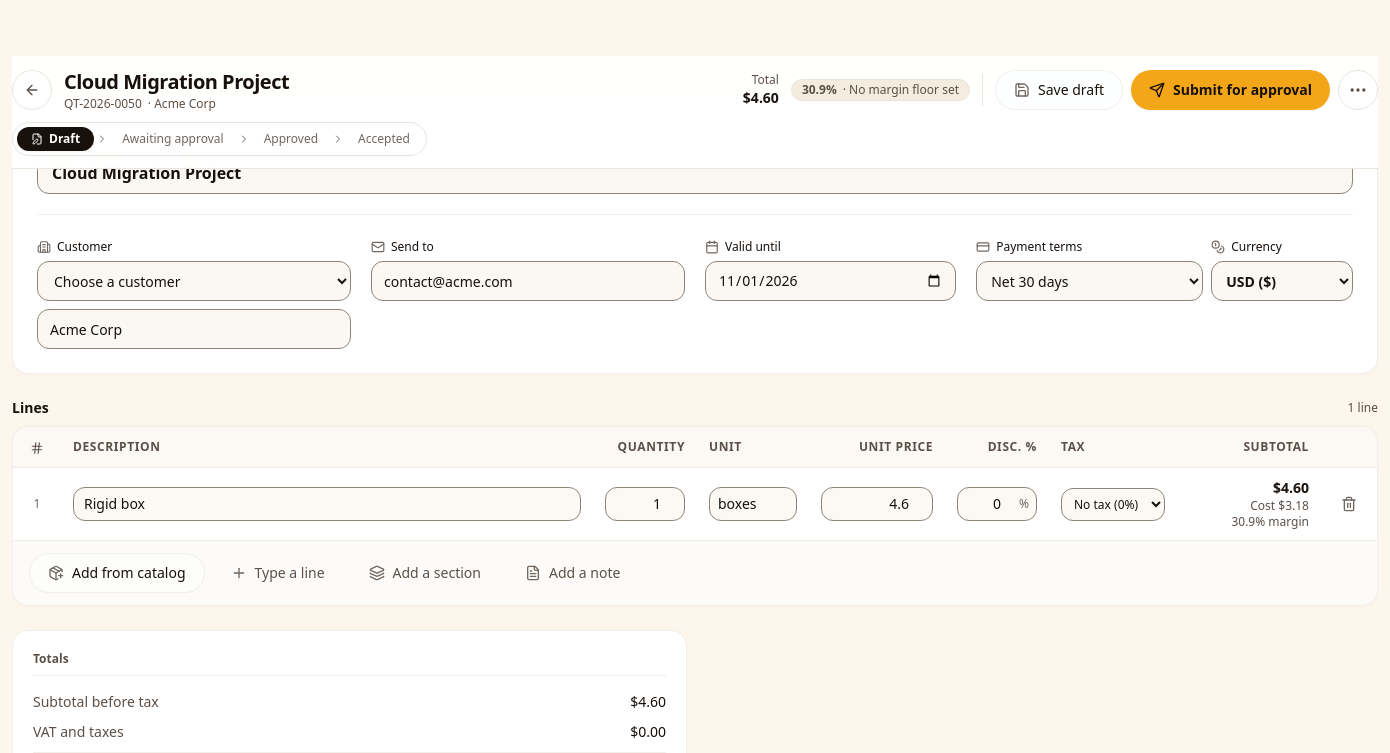
Scenario: QuoteEditorPage - orders, costs and undo › re-costs a catalog line when its quantity changes, and says when it loses money
The image size is (1390, 753).
Step 1. Replace the text in the number field named "Quantity, line 1" with "500" → (645,504), box 605,487 -> 685,521
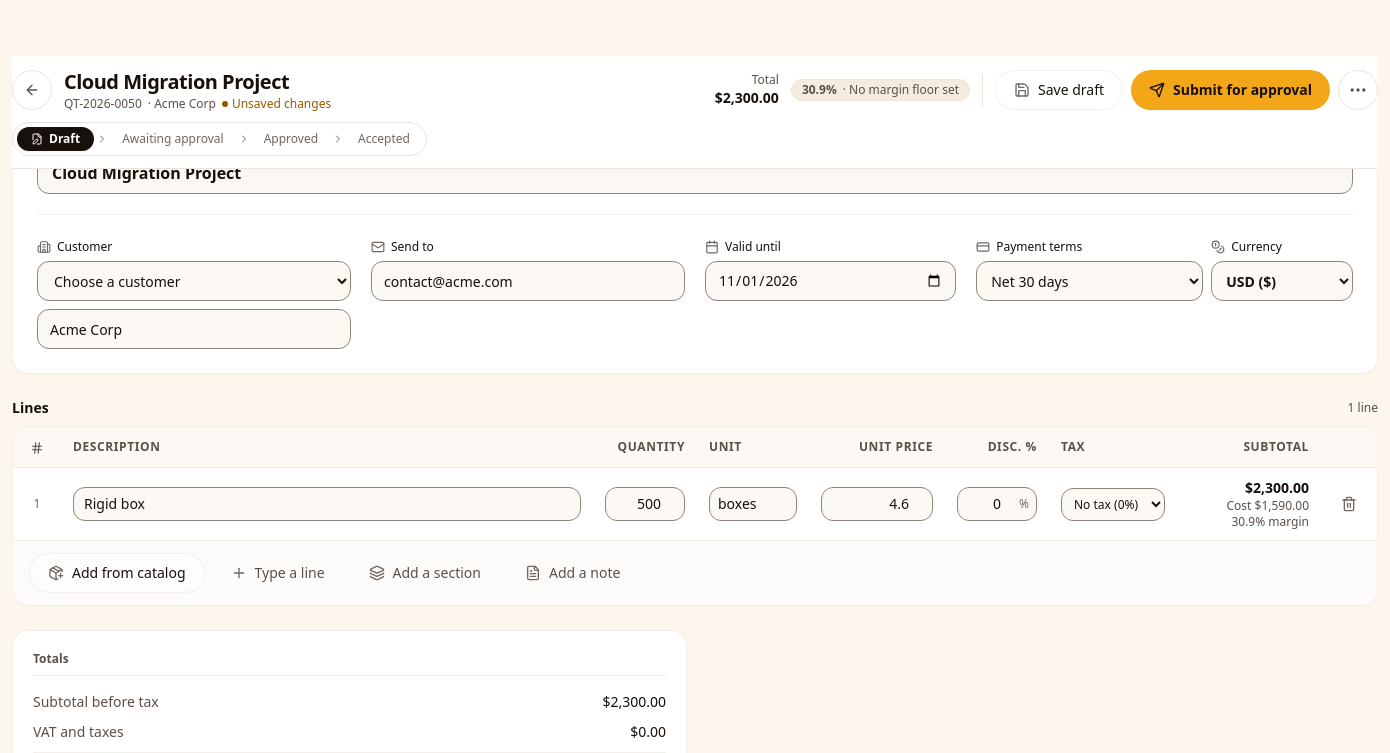
Expected: the text "30.9% margin" is shown, 1231,513 -> 1309,530
Result: the text "Cost $1,590.00" is shown at 1226,497 -> 1309,514
Step 2. Replace the text in the number field named "Discount percent, line 1" with "35" → (997,504), box 957,487 -> 1037,521
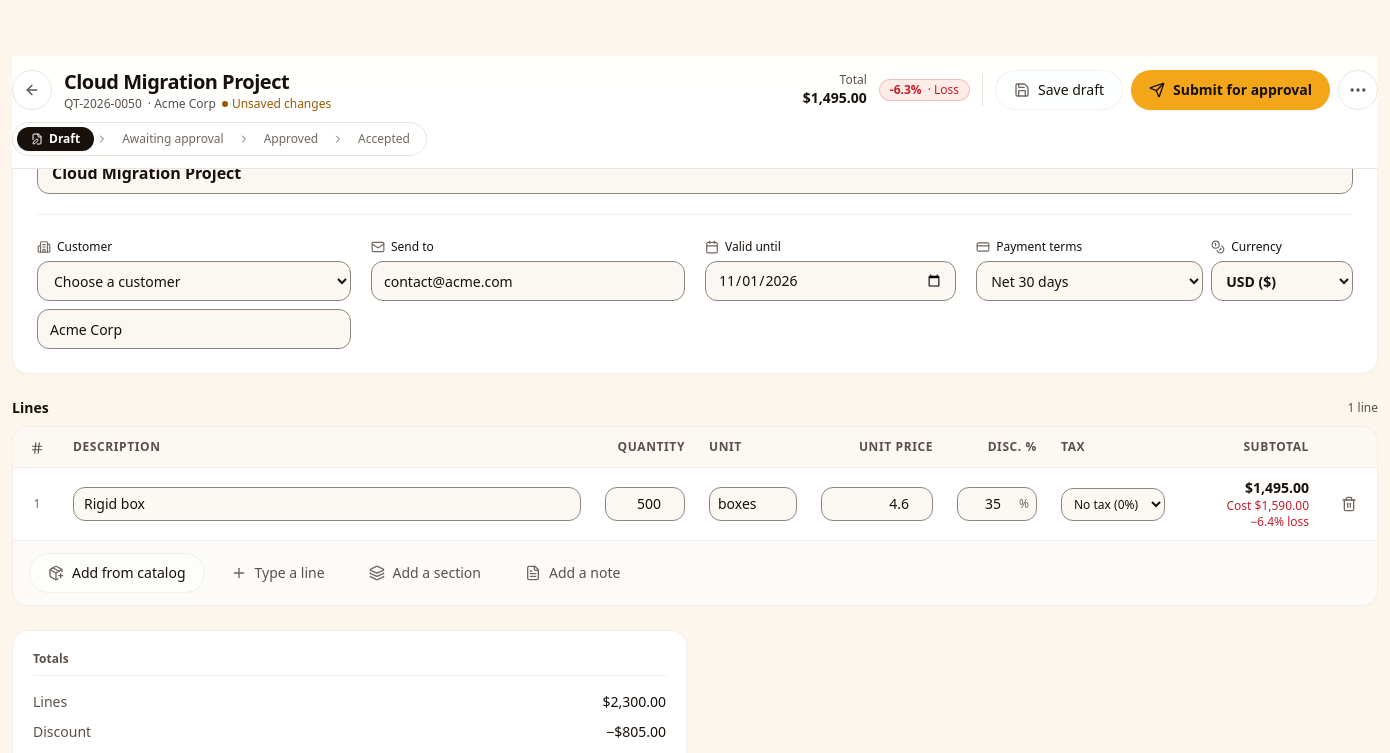
Result: the text "−6.4% loss" is shown at 1250,513 -> 1309,530
Result: the text "· Loss" is shown at 928,82 -> 959,98
